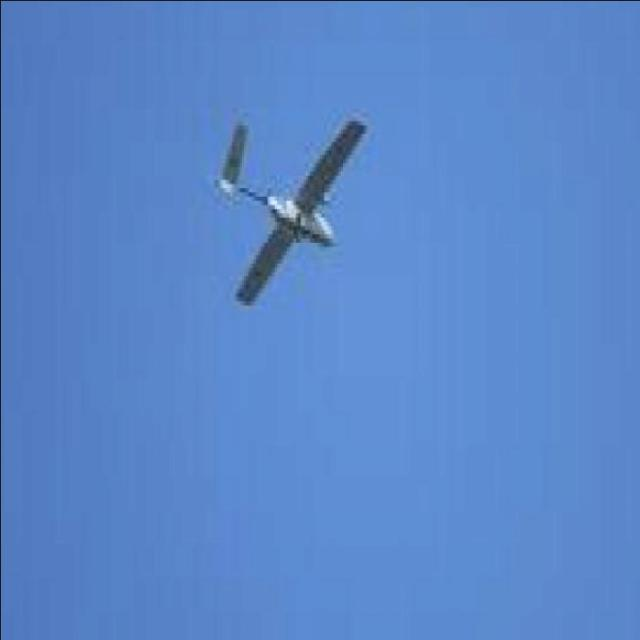plane: (212, 112, 371, 306)
